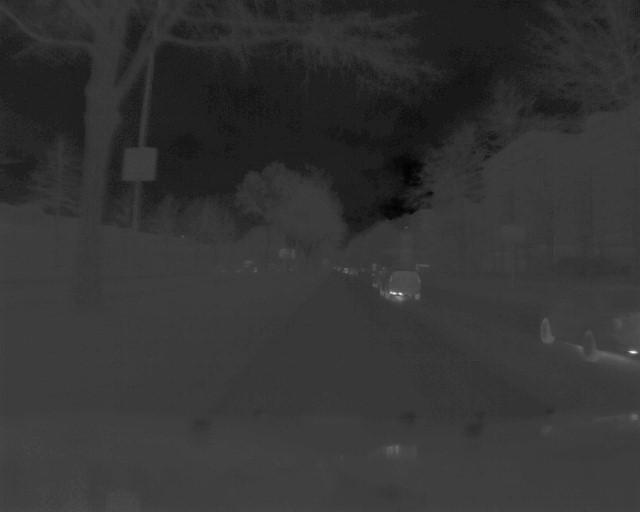car: (537, 280, 640, 364), (379, 266, 424, 302)
